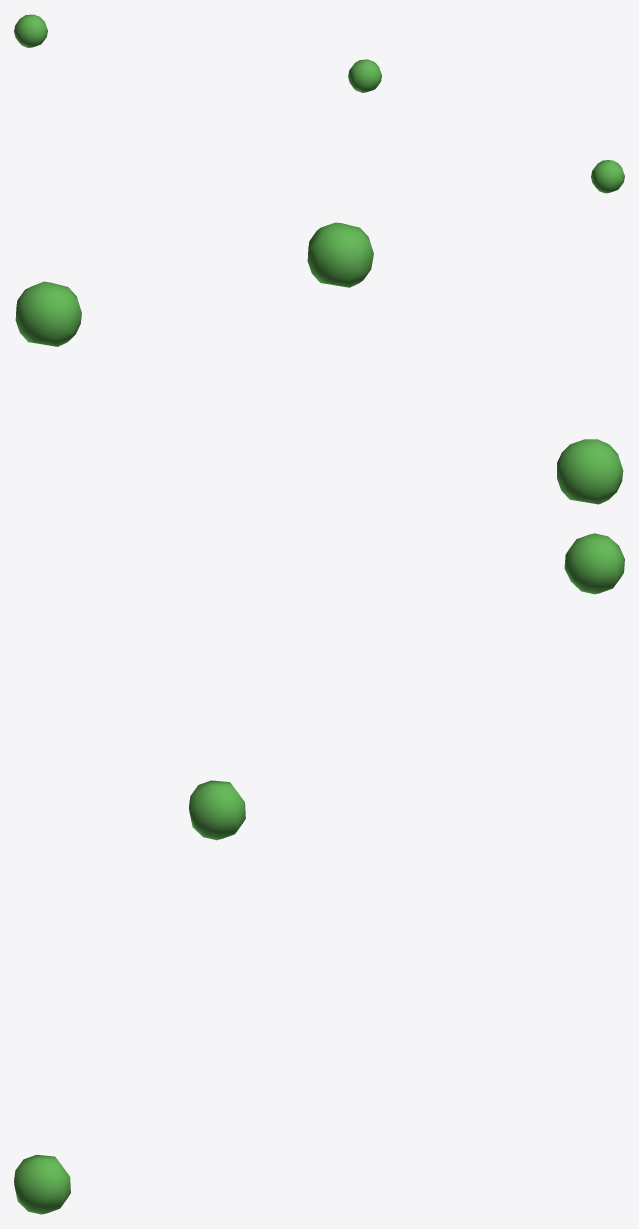
The model's file is linfatico-middle-colic-nodes.glb.
3 views of the same model, one above another, from view 1: azimuth 30°, elevation 25°; view 2: azimuth 150°, elevation 25°; view 3: azimuth 270°, elevation 25° (orthographic). The views are drawn at different scales.
Visible parts, largest first — view 1: Middle colic nodes; view 2: Middle colic nodes; view 3: Middle colic nodes.
Part boxes in pixels (bbox=[...]): Middle colic nodes: bbox=[14, 14, 624, 193]; Middle colic nodes: bbox=[15, 222, 623, 504]; Middle colic nodes: bbox=[14, 533, 624, 1214].
Size of the model in its own units: 0.0399 by 0.0141 by 0.0259.
